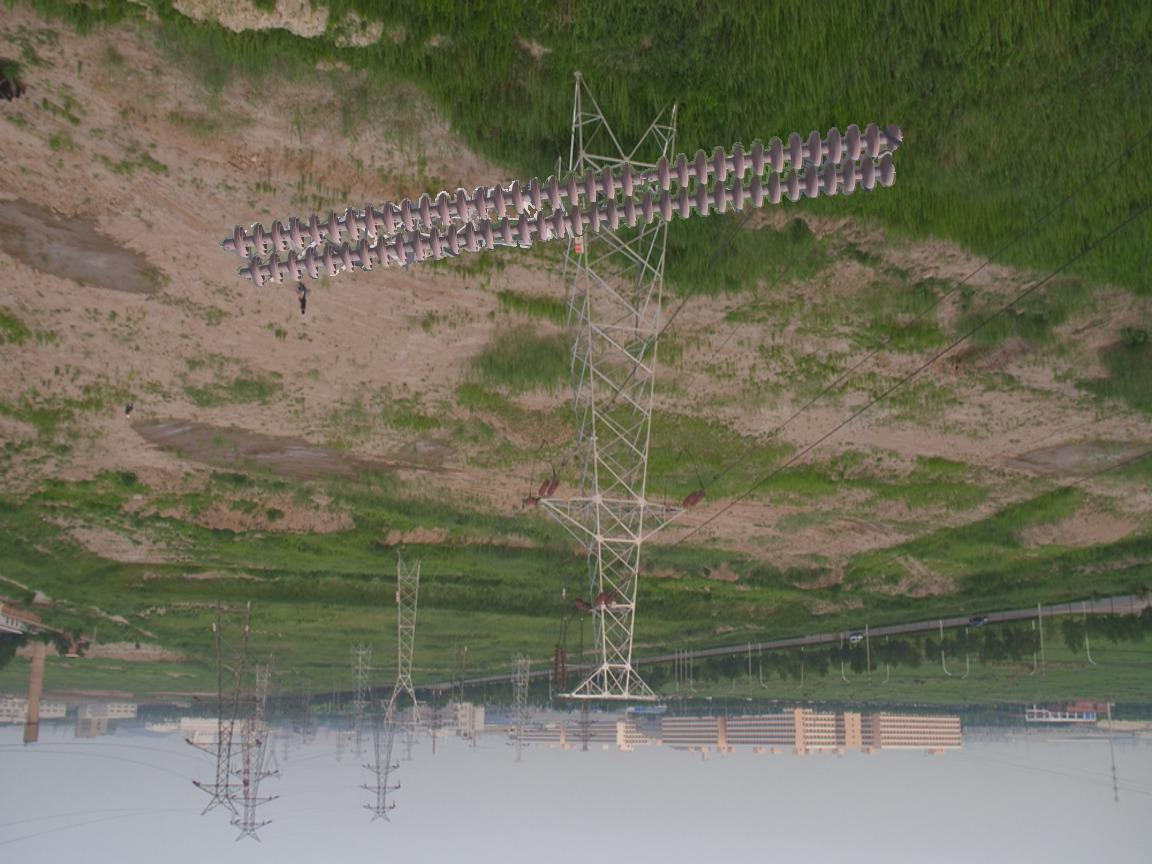insulator: (225, 119, 907, 291)
insulator_stringdrop: (618, 154, 674, 200)
